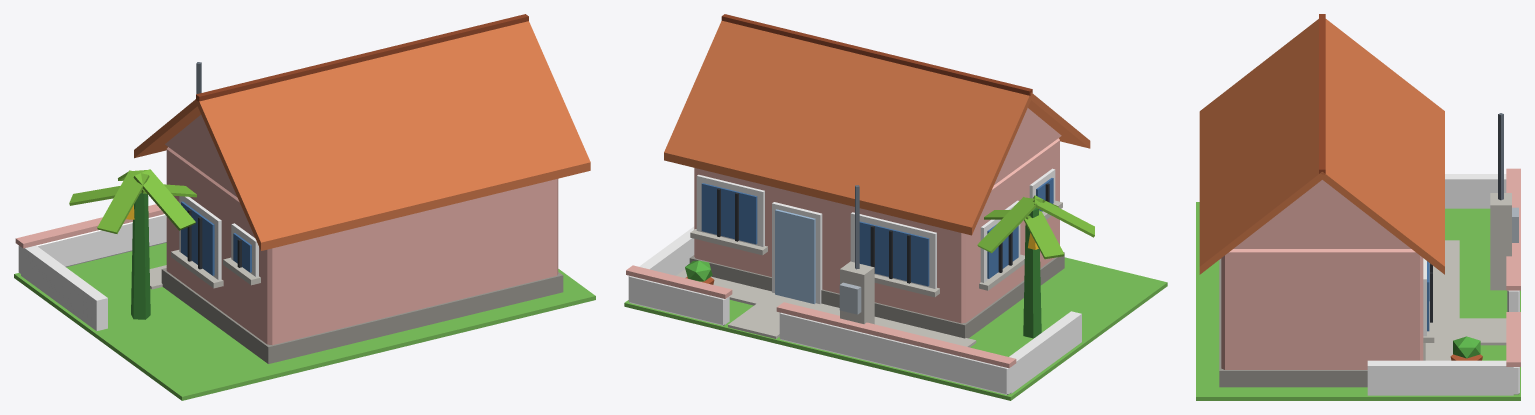
The model's file is casa_popular.glb.
3 views of the same model, side by side, from view 1: azimuth 30°, elevation 25°; view 2: azimuth 150°, elevation 25°; view 3: azimuth 270°, elevation 25° (orthographic). The views are drawn at different scales.
Visible parts, largest first — view 1: corpo; view 2: corpo; view 3: corpo.
Boxes of the visible parts, bbox=[...] form: corpo: bbox=[14, 14, 595, 400]; corpo: bbox=[624, 14, 1167, 400]; corpo: bbox=[1196, 14, 1520, 400].
Size of the model in its own units: 1.29 by 0.703 by 0.9.
